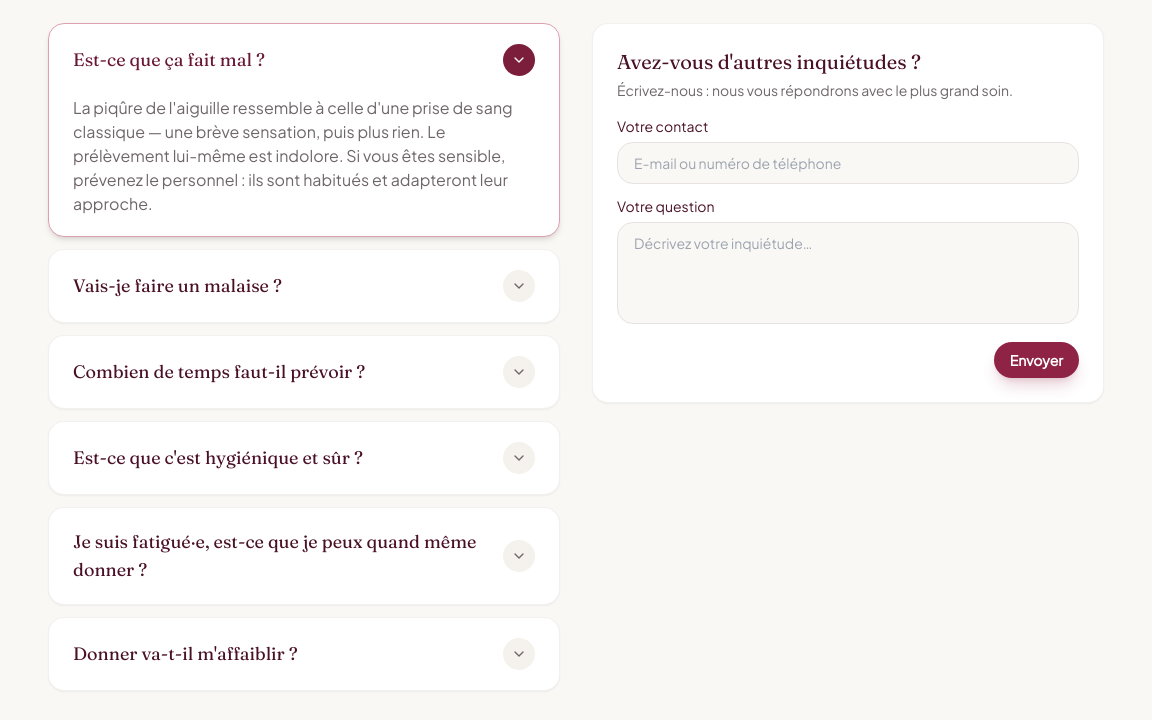
FaqSection › affiche une alerte si le formulaire d’inquiétude est vide
(page scrolled)
Step 1. Click the button "Envoyer" → (1036, 360), box [994,342,1079,378]
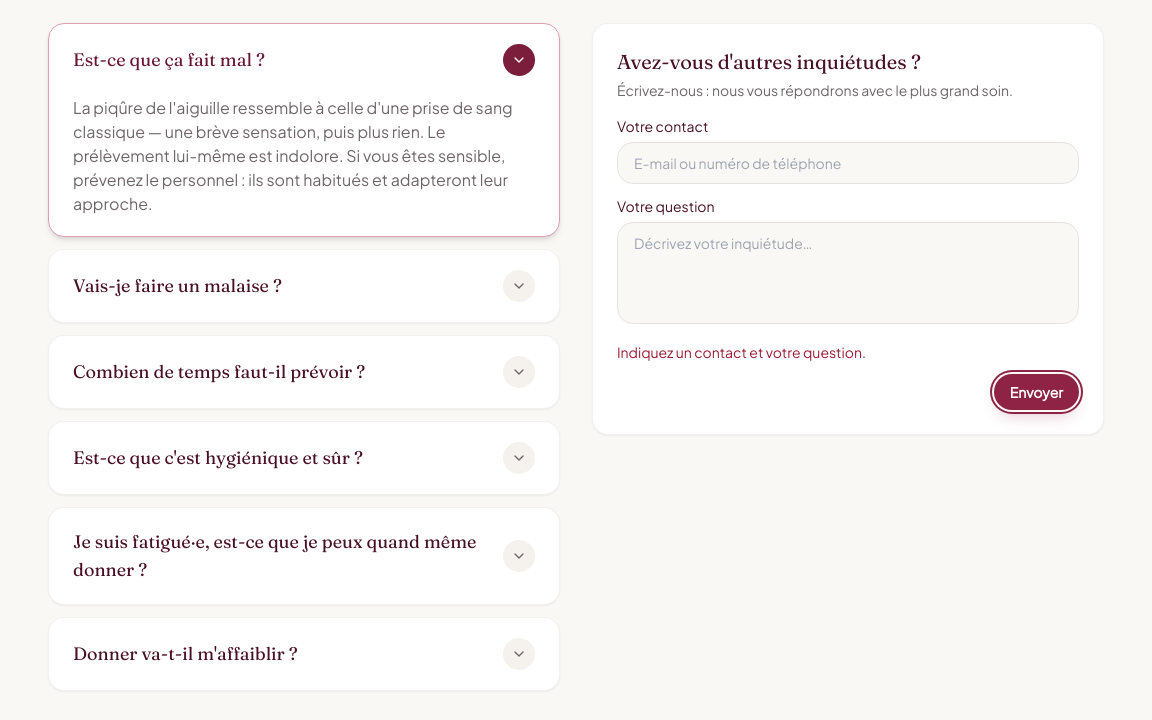
expect the message shows "Indiquez un contact": met, box [617,343,866,361]
